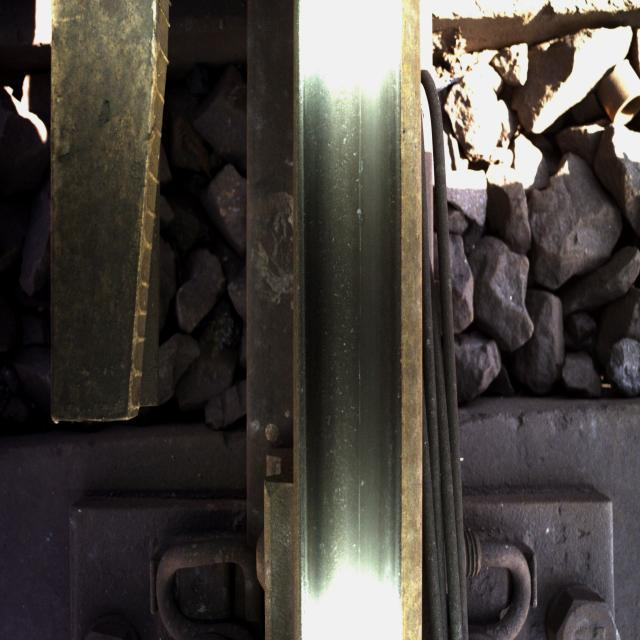break: (311, 32, 380, 612)
